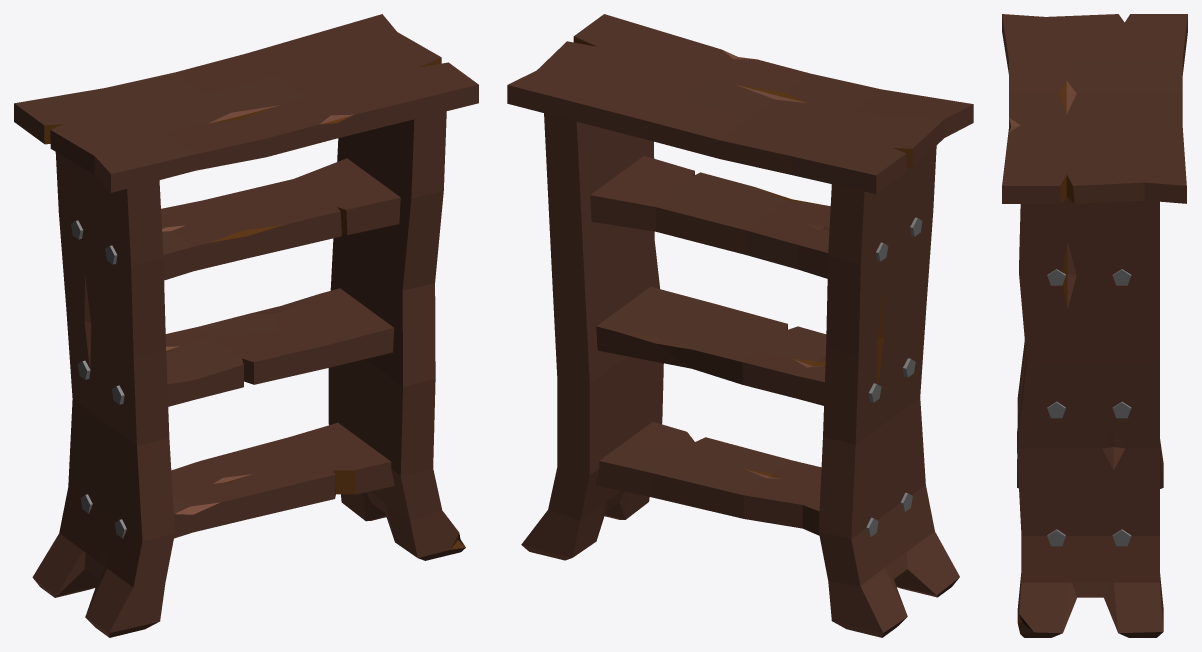
The model's file is Shelf_02.glb.
3 views of the same model, side by side, from view 1: azimuth 30°, elevation 25°; view 2: azimuth 150°, elevation 25°; view 3: azimuth 270°, elevation 25° (orthographic). The views are drawn at different scales.
Parts seen in each view (by area): view 1: Shelf_02; view 2: Shelf_02; view 3: Shelf_02.
Boxes of the visible parts, x1,y1,x2,y2 form: Shelf_02: (14,14,478,637); Shelf_02: (507,14,973,637); Shelf_02: (1002,14,1187,637).
Size of what is drawn, in the model's own units: 1.71 by 2.11 by 0.7804.
Materials: 1 (1 with a texture image).
